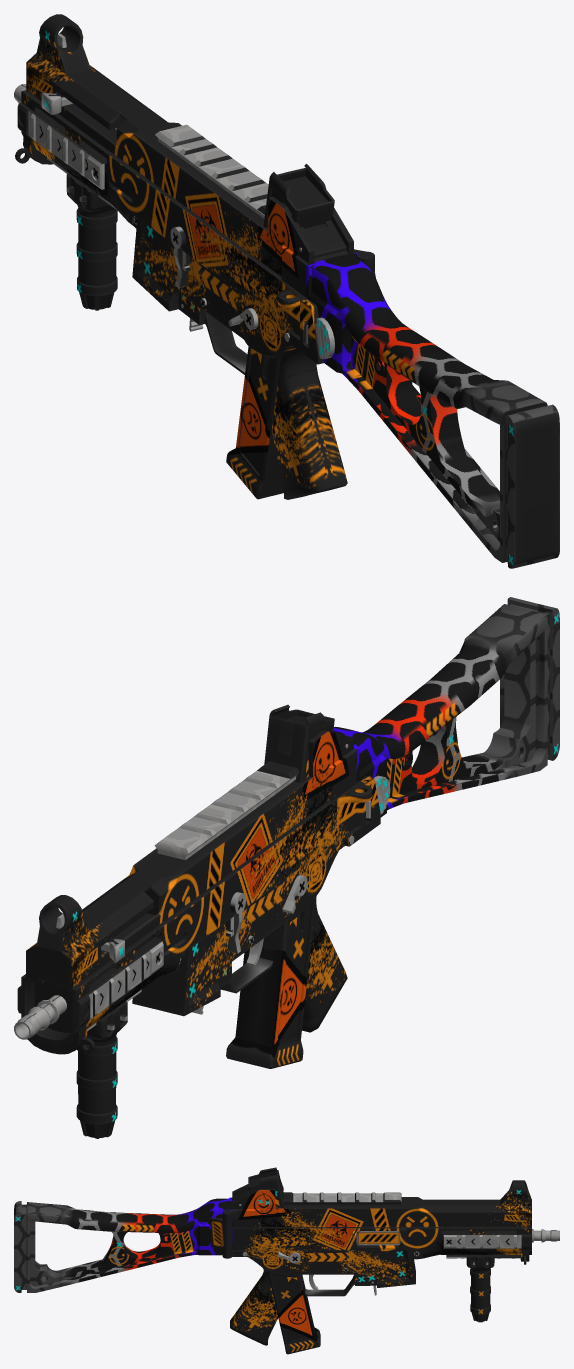
3 renders of one model, top to bottom at view 1: azimuth 30°, elevation 25°; view 2: azimuth 150°, elevation 25°; view 3: azimuth 270°, elevation 25°, orthographic. The views are drawn at different scales.
Parts seen in each view (by area): view 1: Body, Magazine; view 2: Body, Magazine; view 3: Body, Magazine.
Part boxes in pixels (<box>): Body: <box>14,14,559,568</box>; Magazine: <box>226,164,334,499</box>; Body: <box>14,597,559,1138</box>; Magazine: <box>226,704,334,1068</box>; Body: <box>14,1180,559,1345</box>; Magazine: <box>248,1167,320,1354</box>.
Size of the model in its own units: 0.0863 by 0.3266 by 0.9115.
1 material, 1 textured.
